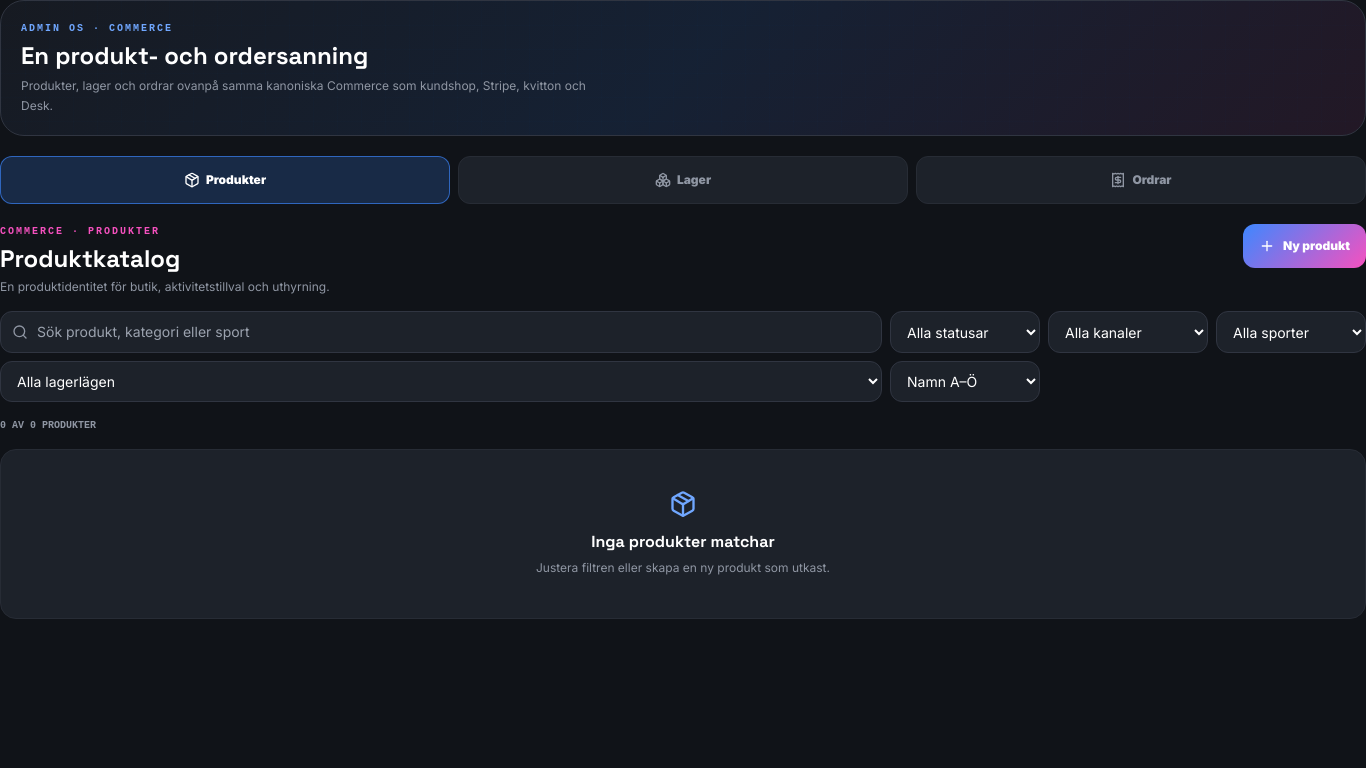
Test: Admin OS Commerce experience › uses the authorized canonical order search and opens canonical order detail
Click the tab "Ordrar": click(1141, 180) [916,156,1365,204]
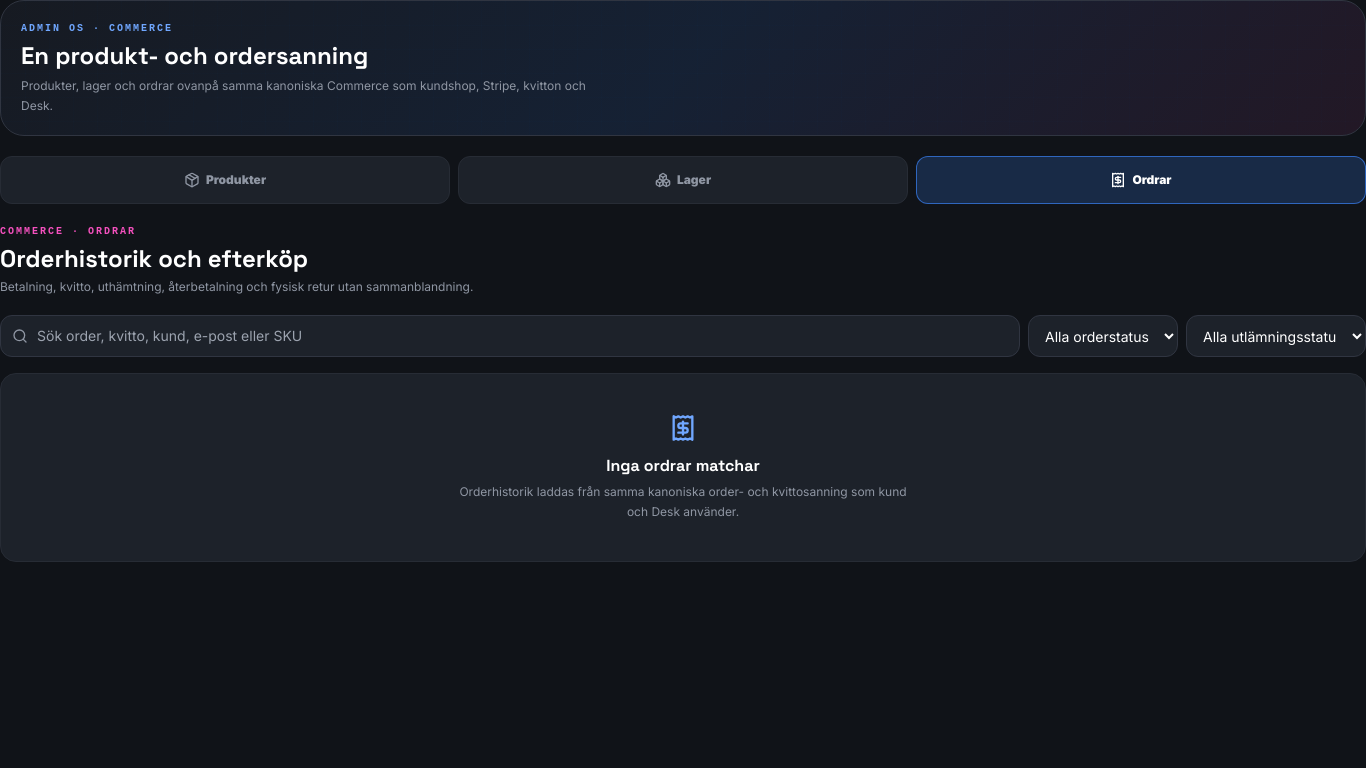
In the field with placeholder "Sök order, kvitto, kund, e-post eller SKU": (510, 336) [0,315,1020,357], type "RACKET-RENTAL"
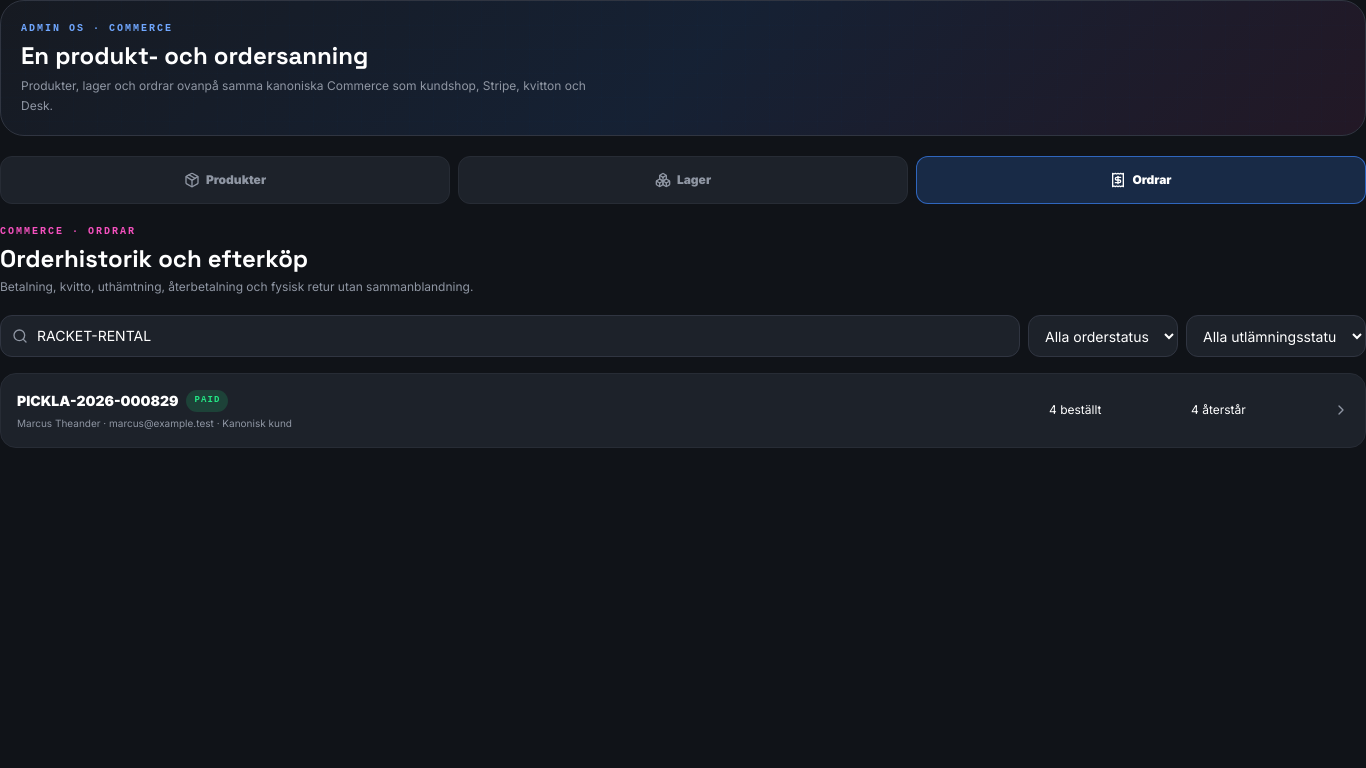
Now the button "PICKLA-2026-000829" shows "Marcus Theander"
Now the button "PICKLA-2026-000829" shows "4 återstår"
Click the button "PICKLA-2026-000829": click(98, 400) [0,373,1365,448]
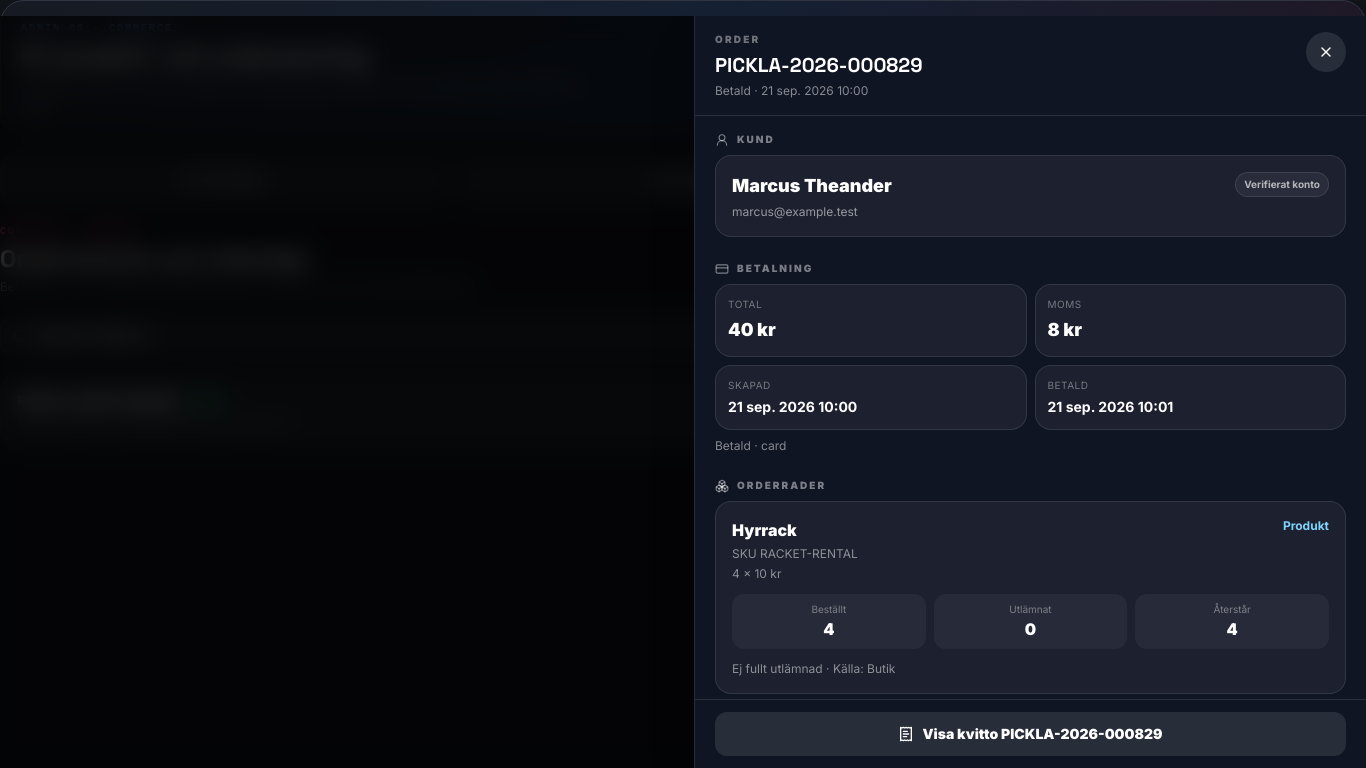
Now the heading "PICKLA-2026-000829" is shown, box [715,51,922,79]
Now the text "Hyrrack" is shown, box [732,520,797,540]
